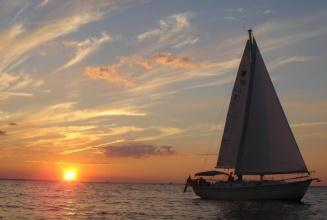fanchuan: (182, 25, 317, 199)
